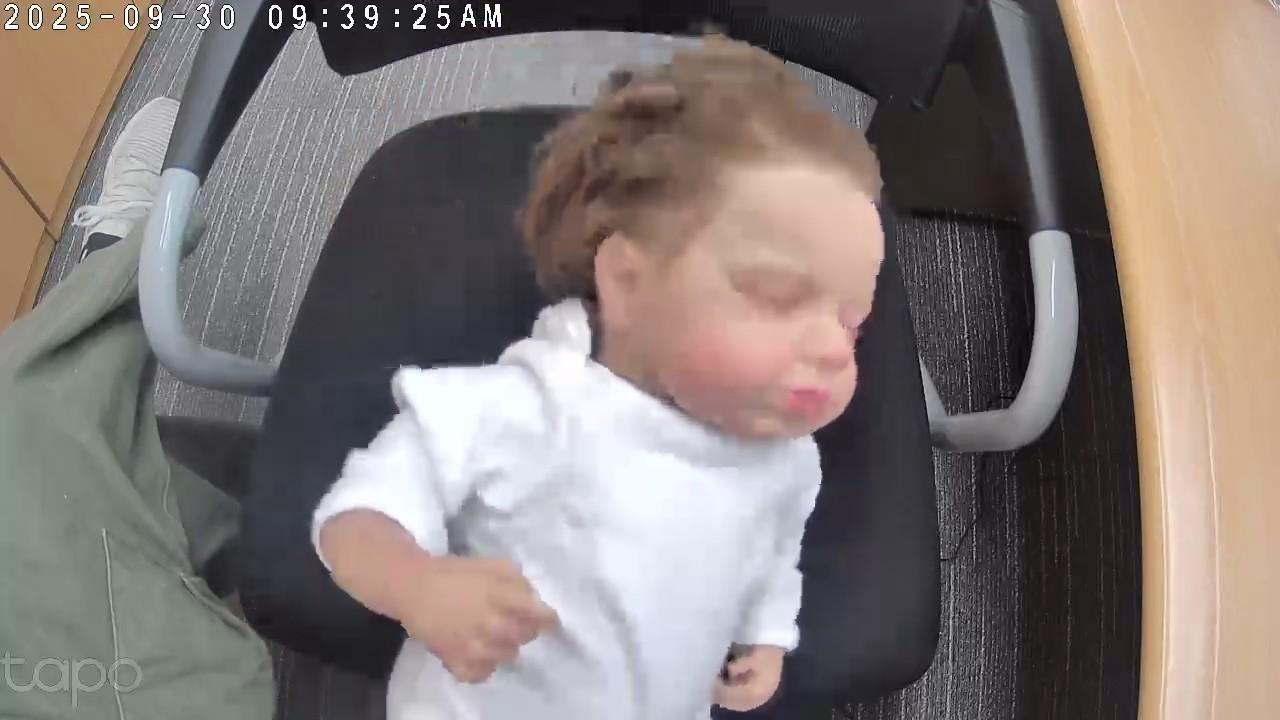hand: (414, 552, 560, 685), (715, 650, 782, 712)
